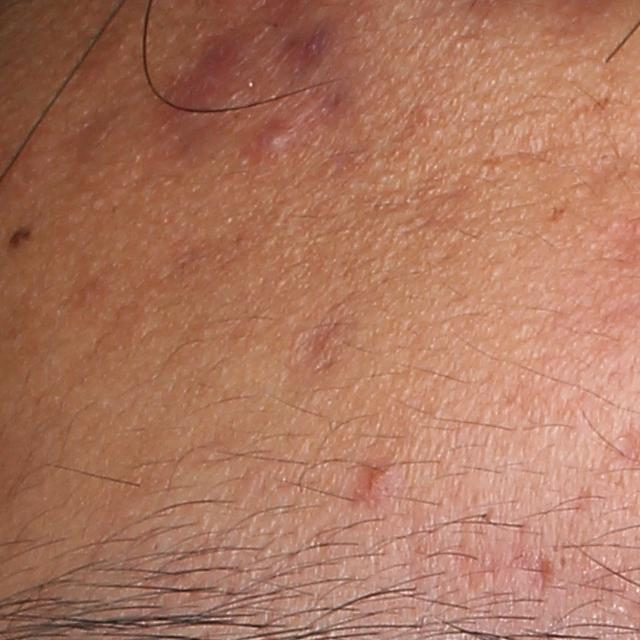atrophic_scar: (424, 524, 622, 597), (288, 301, 358, 383)
nevus: (4, 216, 32, 244)
papule: (255, 114, 299, 163), (355, 468, 394, 503)
